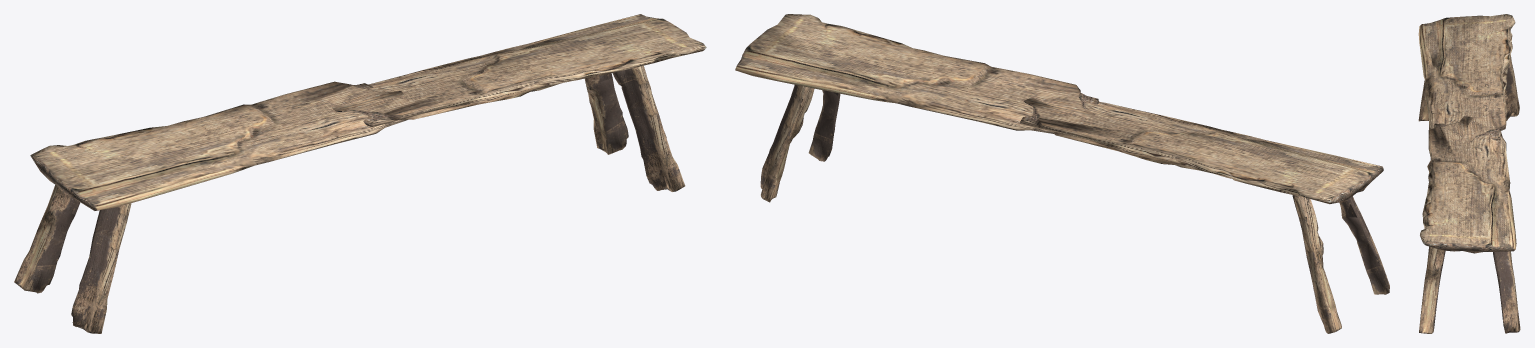
File: Chair5.fbx
3 renders of one model, left to right at view 1: azimuth 30°, elevation 25°; view 2: azimuth 150°, elevation 25°; view 3: azimuth 270°, elevation 25°, orthographic. The views are drawn at different scales.
Visible parts, largest first — view 1: chair5_lod0; view 2: chair5_lod0; view 3: chair5_lod0.
Part boxes in pixels (x1,y1,x2,y2): chair5_lod0: (14,14,706,333); chair5_lod0: (735,14,1389,333); chair5_lod0: (1418,14,1520,333).
Size of what is drawn, in the model's own units: 273 by 58.58 by 50.54.
